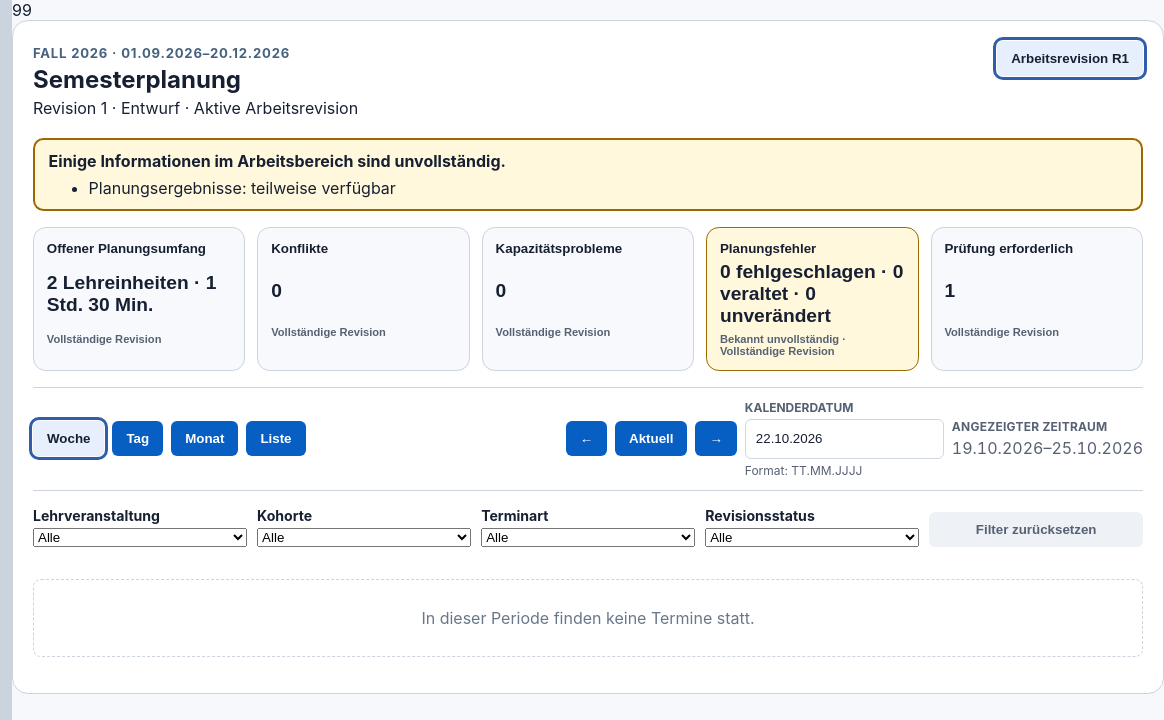
Test: CalendarPlanningWorkspace › restores the prior course after an undated trace through either clear path
This screenshot has width=1164, height=720.
Step 1. Click the button with class "summary-card" that starts with "Prüfung erforderlich" → x=1037, y=299, box [931,227,1143,371]
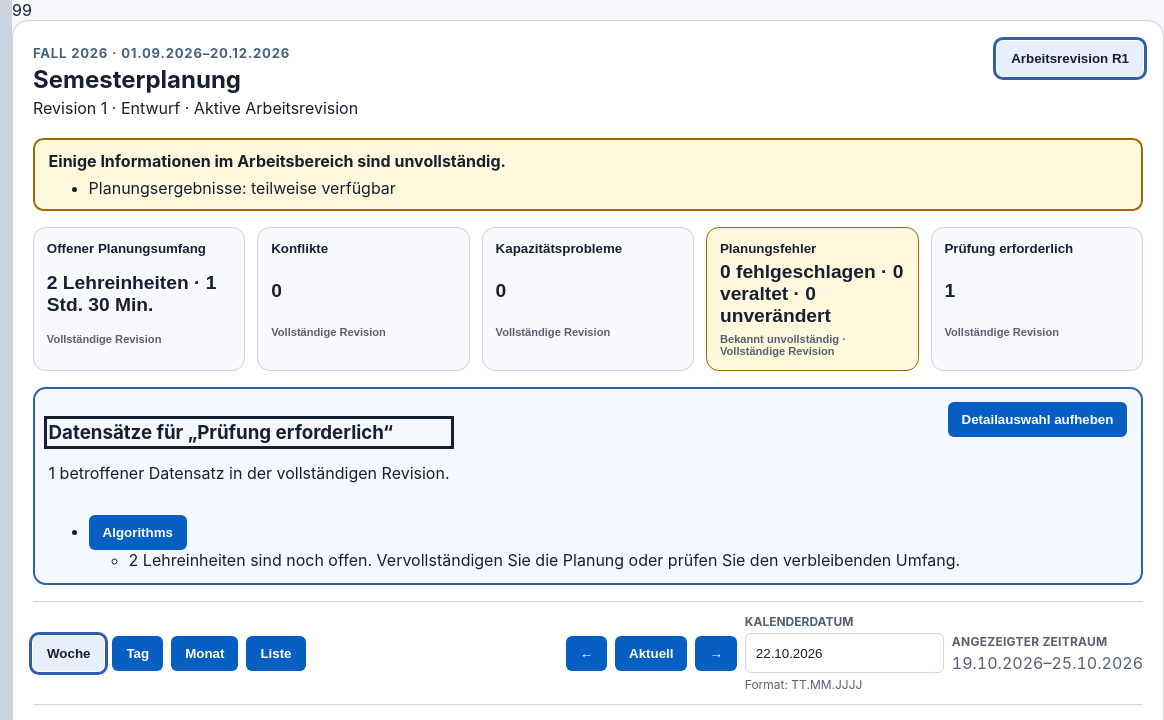
Step 2. Click the button "Algorithms" → x=138, y=532, box [89,515,187,550]
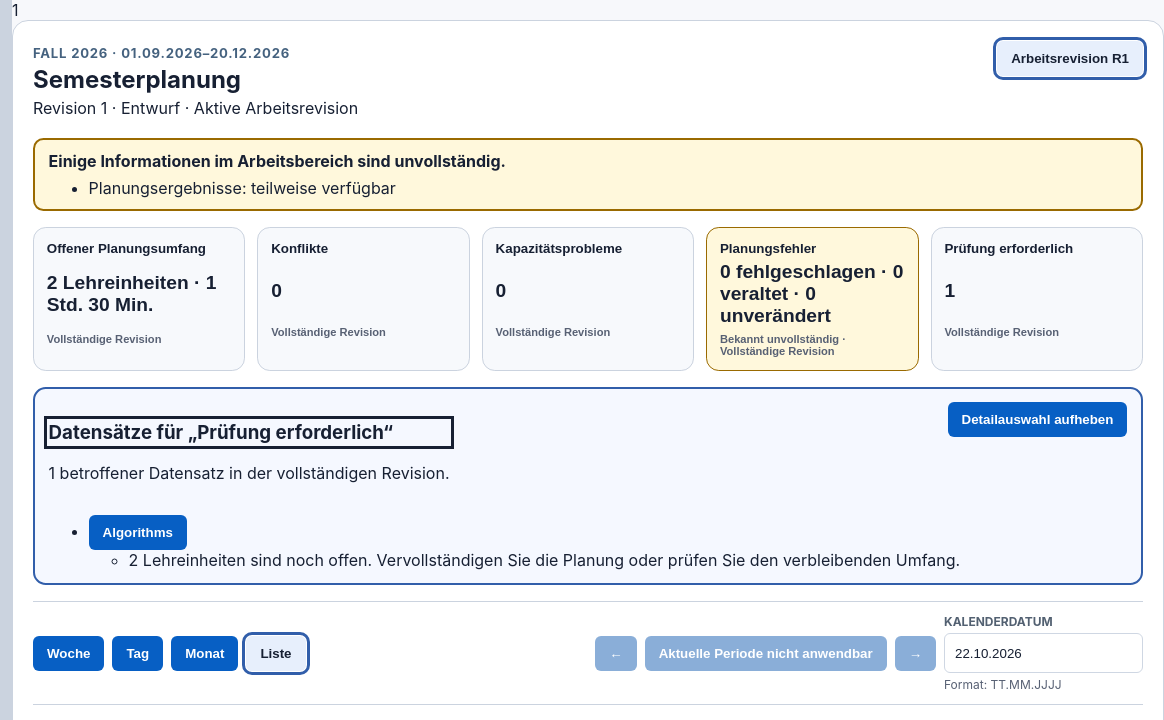
Check: the text with test id "selected-course" reads "1", box [12,0,18,20]
Step 3. Click the button "Detailauswahl aufheben" → x=1038, y=420, box [948,402,1127,437]
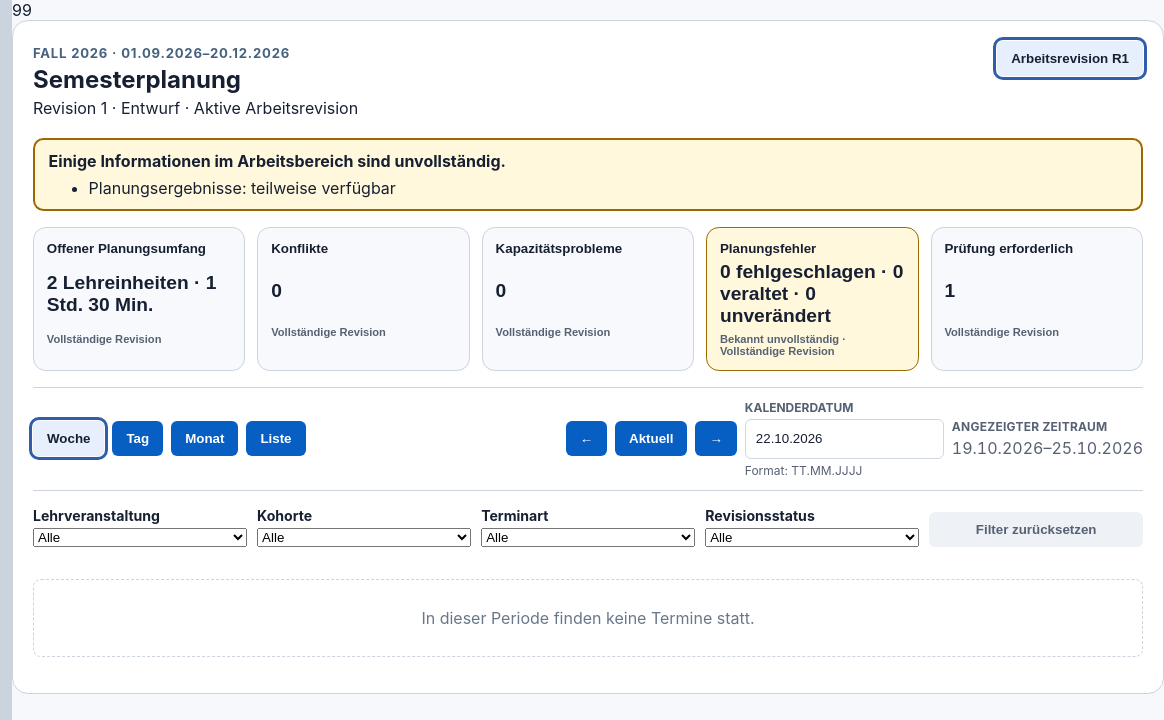
Check: the text with test id "selected-course" reads "99", box [12,0,32,20]
Step 4. Click the button with class "summary-card" that starts with "Prüfung erforderlich" → x=1037, y=299, box [931,227,1143,371]
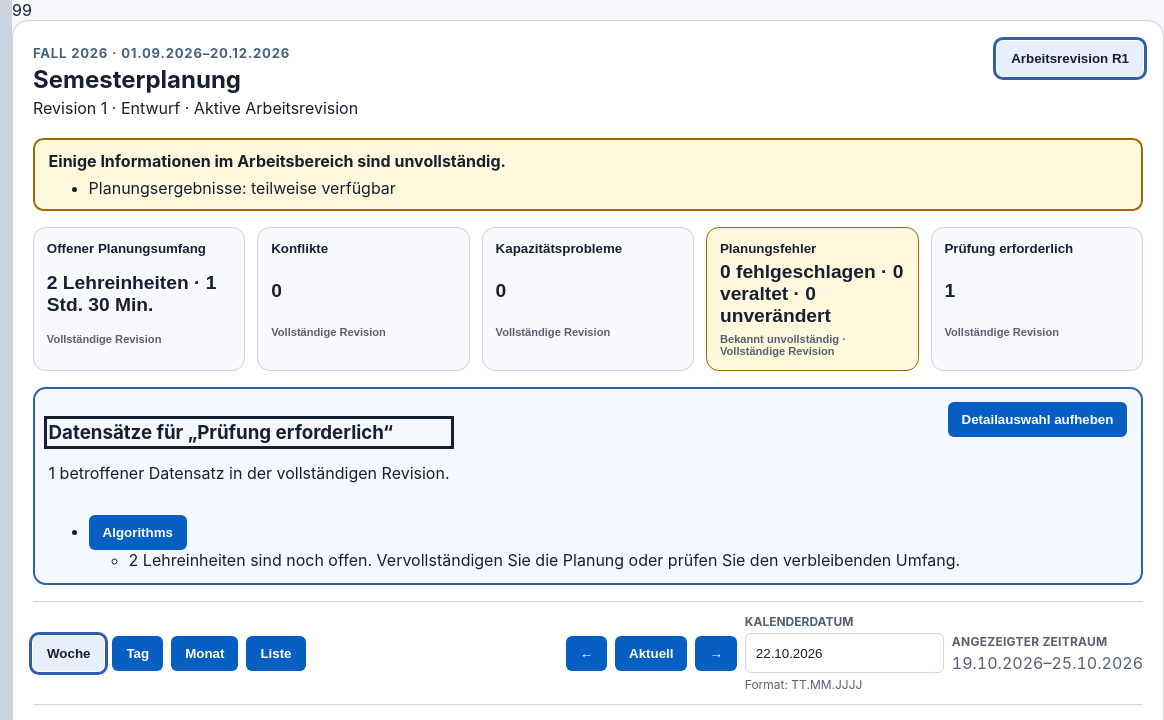
Step 5. Click the button "Algorithms" → x=138, y=532, box [89,515,187,550]
(page scrolled)
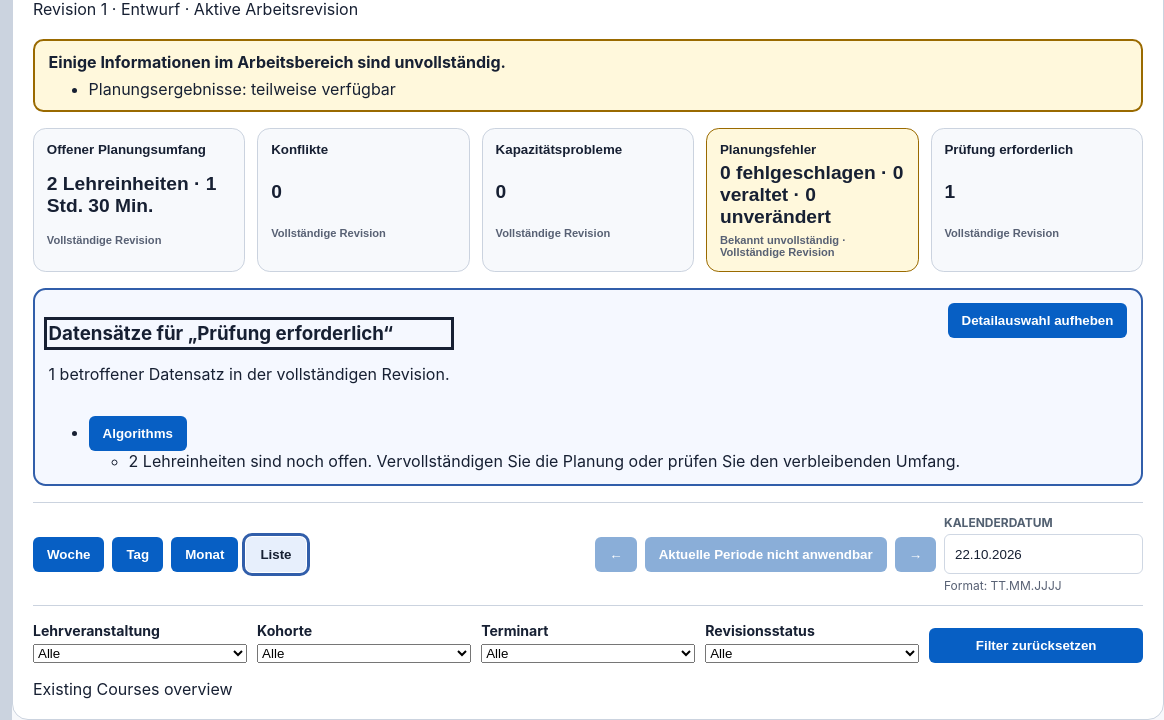
Step 6. Click the button "Filter zurücksetzen" → x=1036, y=646, box [929,628,1143,663]
(page scrolled)
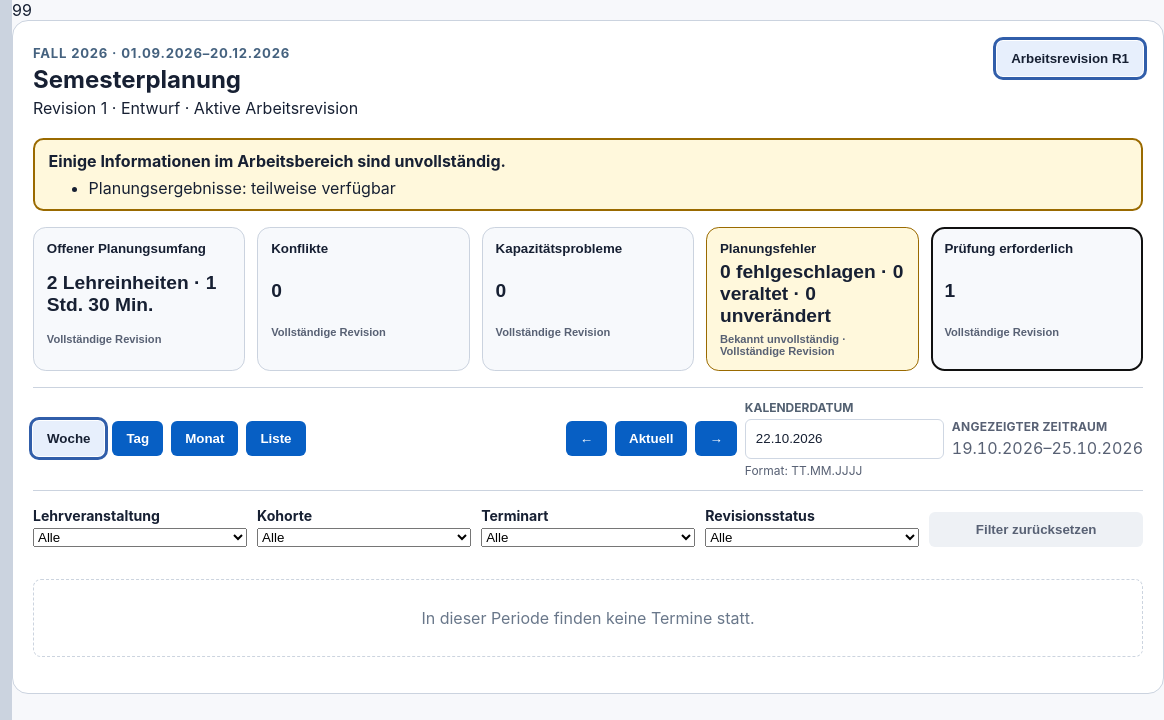
Check: the text with test id "selected-course" reads "99", box [12,0,32,20]
